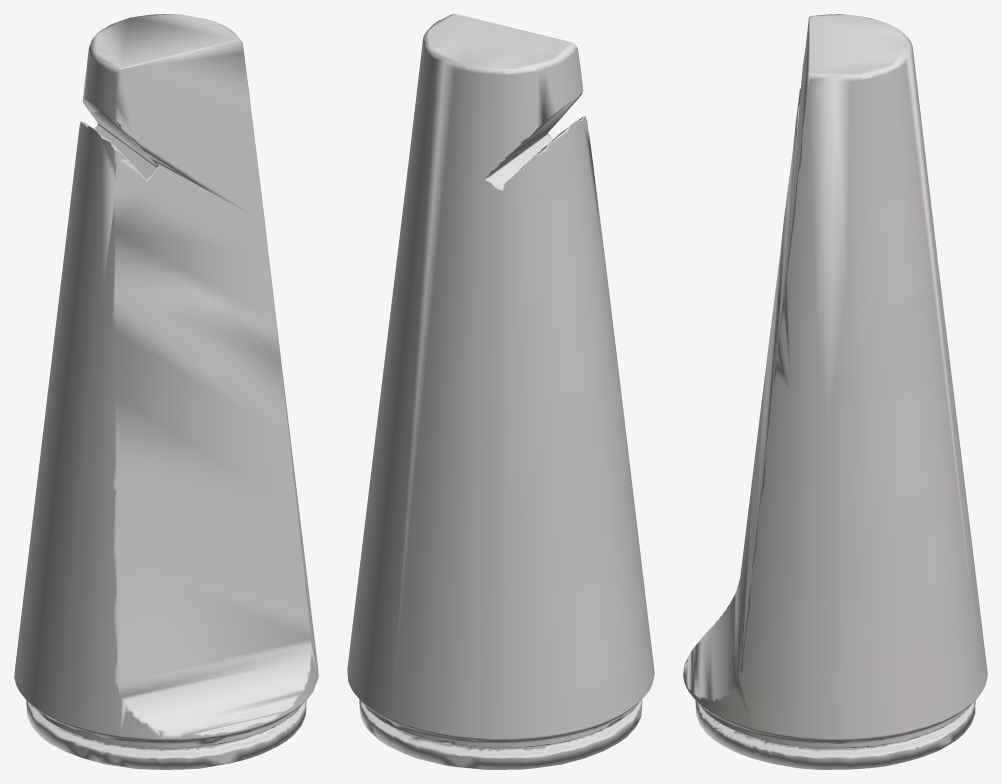
Rendered from 03_strelec_bila.glb.
3 renders of one model, left to right at view 1: azimuth 30°, elevation 25°; view 2: azimuth 150°, elevation 25°; view 3: azimuth 270°, elevation 25°, orthographic.
Visible parts, largest first — view 1: 03_strelec_bila; view 2: 03_strelec_bila; view 3: 03_strelec_bila.
Part boxes in pixels (bbox=[...]): 03_strelec_bila: bbox=[14, 14, 318, 769]; 03_strelec_bila: bbox=[347, 14, 654, 769]; 03_strelec_bila: bbox=[683, 14, 987, 769].
Bounding box in the file's own units: 0.0332 × 0.0803 × 0.0332.
1 material, 1 textured.
